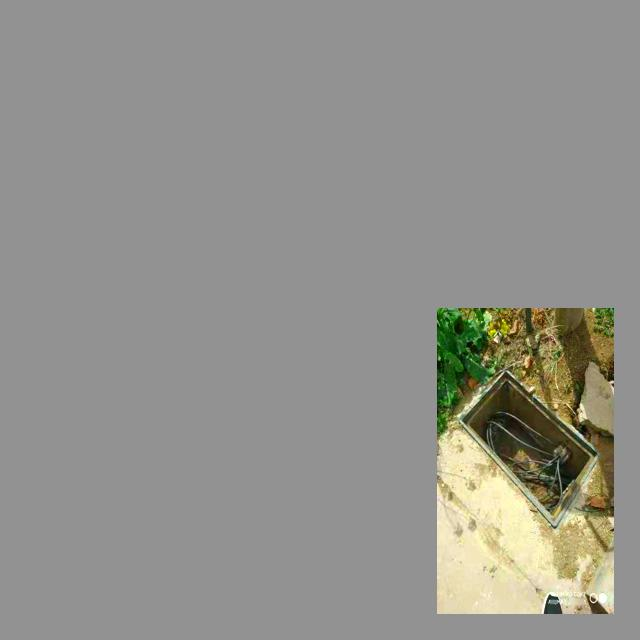lose: (460, 369, 600, 528)
